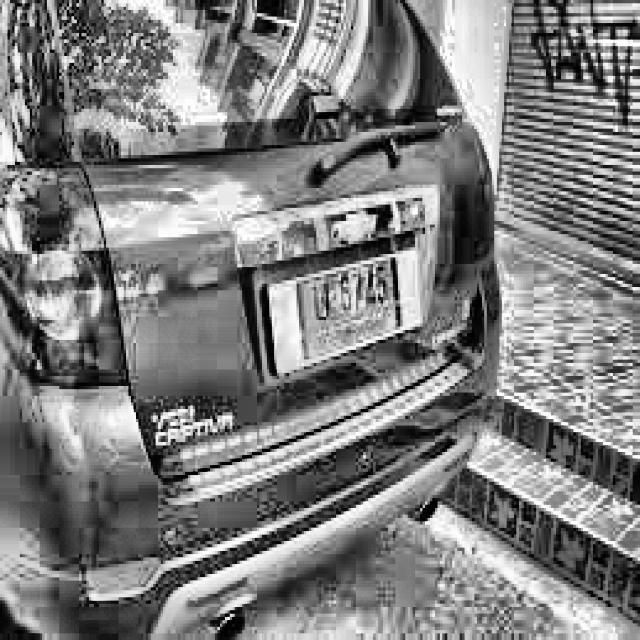license-plate: (297, 254, 404, 360)
